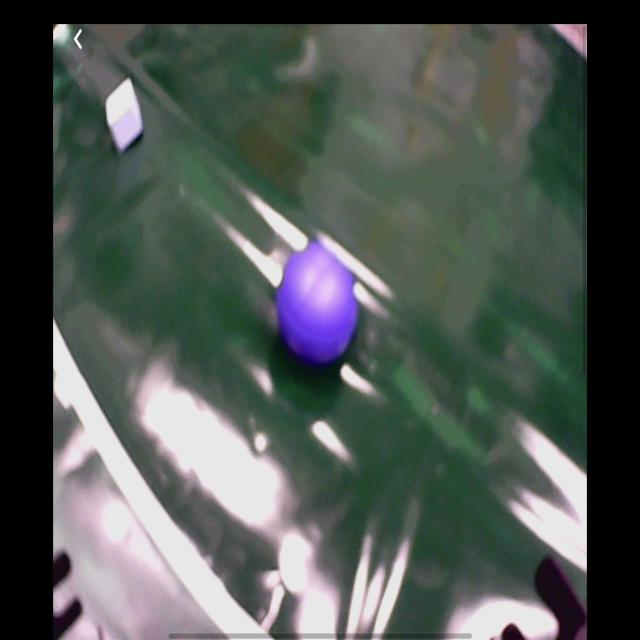ball: (279, 244, 358, 364)
